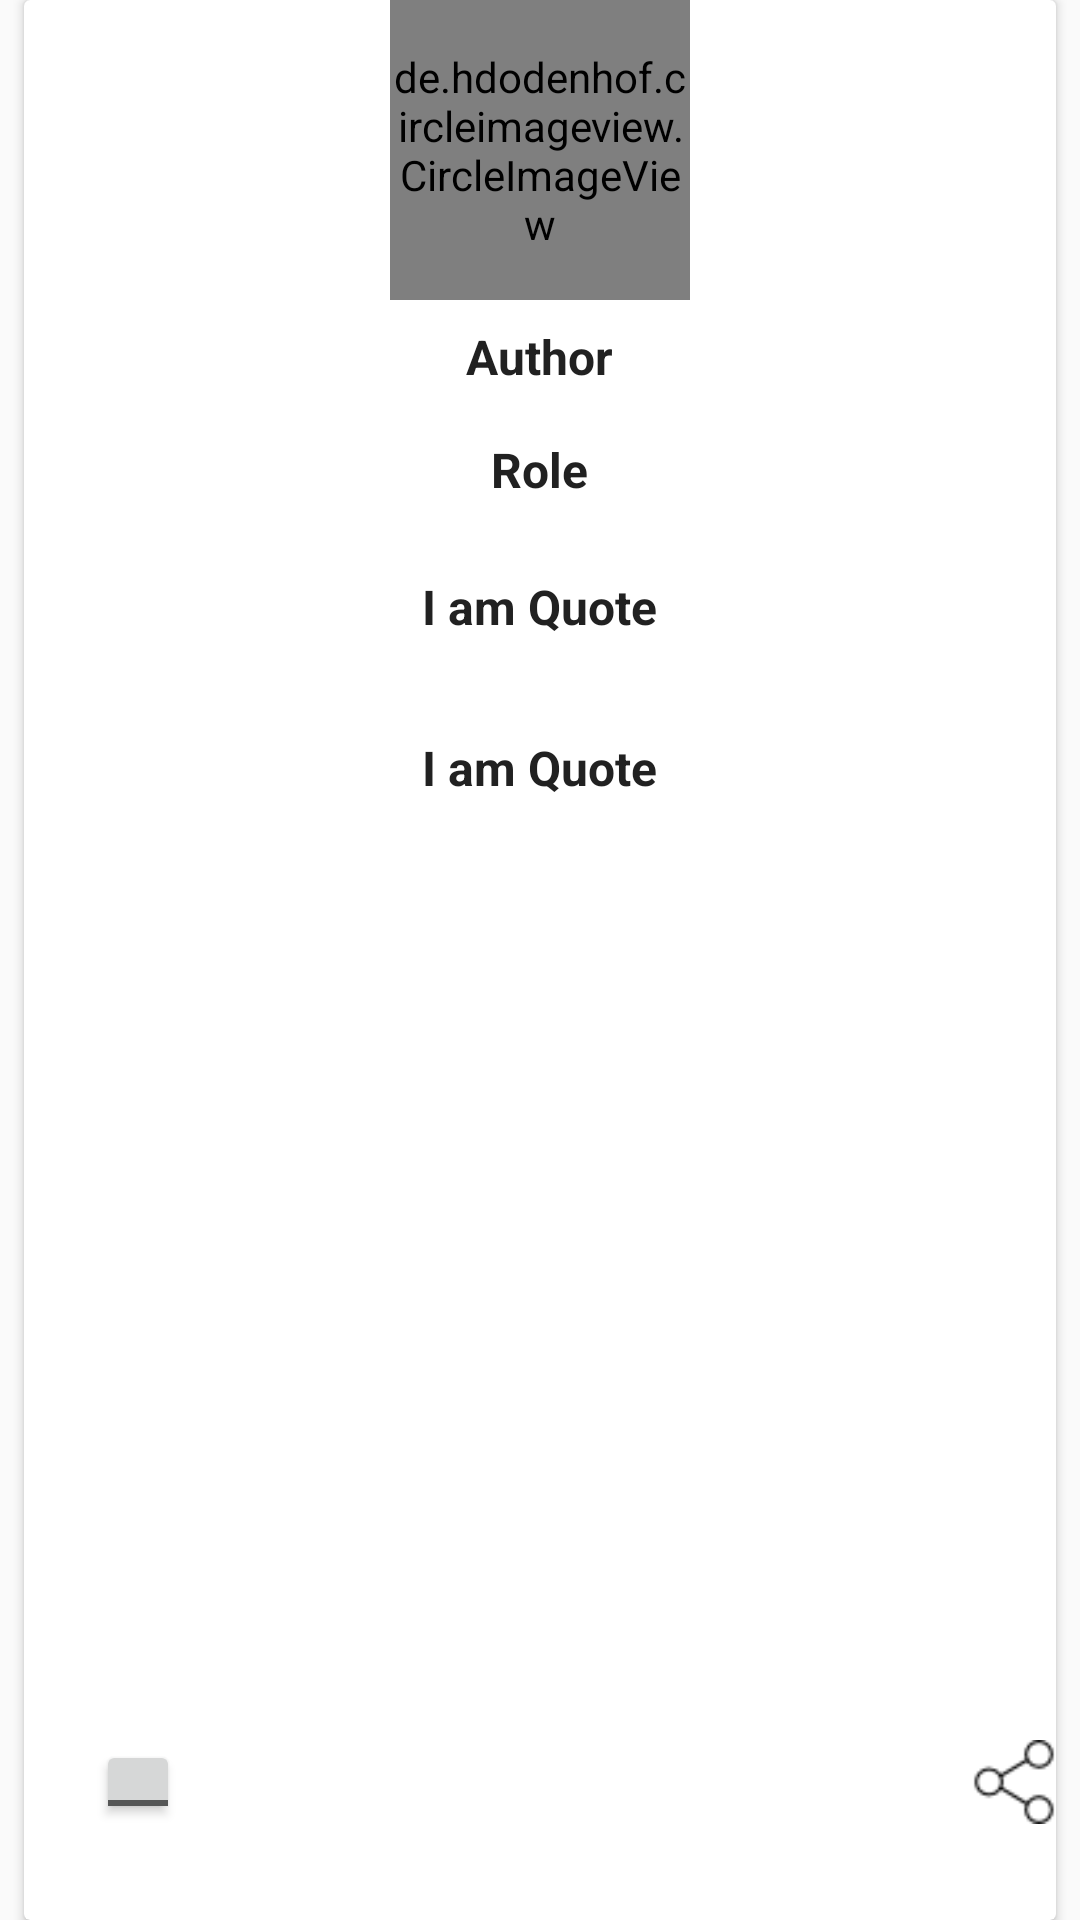

Icon bounding boxes for this 1080px×1920px phone screenshot, format (x1, y1, x2, y2):
btnshare: (974, 1740, 1054, 1824)
